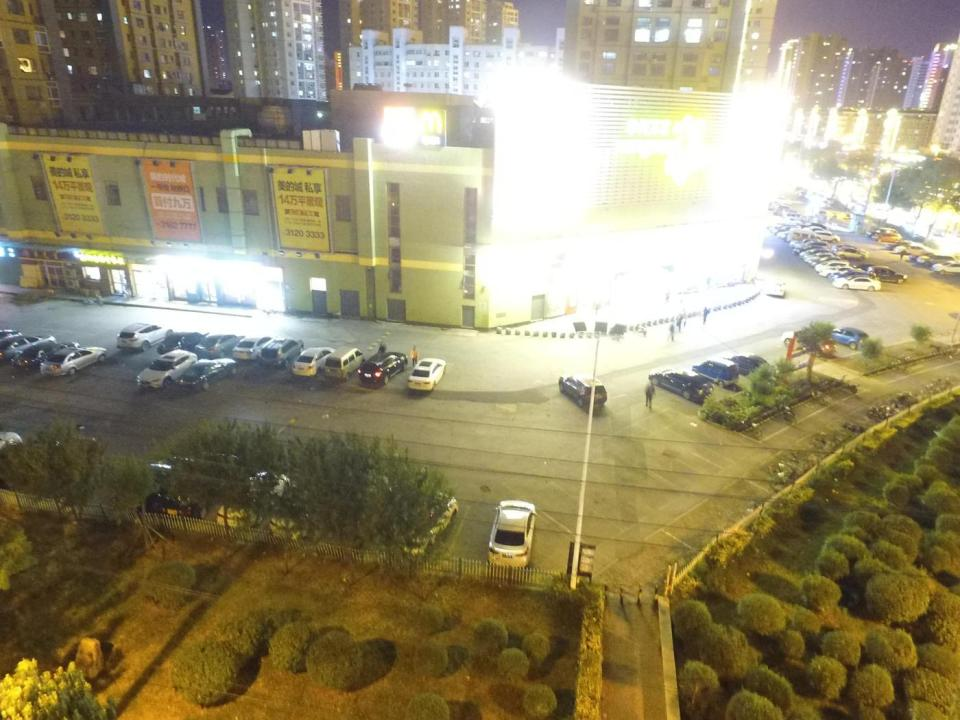car: (152, 454, 239, 518), (388, 493, 458, 560), (111, 457, 187, 516), (216, 471, 289, 529), (270, 473, 321, 540), (488, 500, 538, 567), (137, 349, 198, 388), (648, 368, 714, 401), (39, 346, 106, 377), (12, 342, 80, 370), (178, 359, 238, 390), (116, 322, 174, 352), (559, 373, 607, 406), (1, 336, 57, 364), (724, 353, 776, 381), (291, 347, 336, 378), (406, 358, 446, 391), (867, 266, 908, 285), (833, 274, 881, 290), (830, 269, 870, 282), (833, 244, 868, 257), (854, 263, 885, 277), (815, 259, 848, 272), (819, 266, 854, 278), (931, 261, 960, 275), (835, 247, 866, 260), (794, 241, 830, 252), (777, 230, 811, 241), (804, 252, 835, 264), (789, 239, 820, 251), (800, 248, 830, 260), (794, 245, 826, 256), (811, 256, 842, 267), (815, 231, 840, 244), (766, 280, 786, 296), (804, 226, 832, 237), (773, 226, 800, 236), (805, 222, 828, 232), (782, 218, 803, 226), (816, 209, 826, 220)
van: (693, 357, 739, 388), (259, 338, 304, 368), (325, 347, 364, 381), (788, 228, 820, 246), (917, 253, 955, 266), (895, 243, 928, 257), (872, 232, 902, 243), (866, 228, 896, 239), (909, 251, 936, 261), (885, 242, 915, 250), (782, 209, 803, 220)
